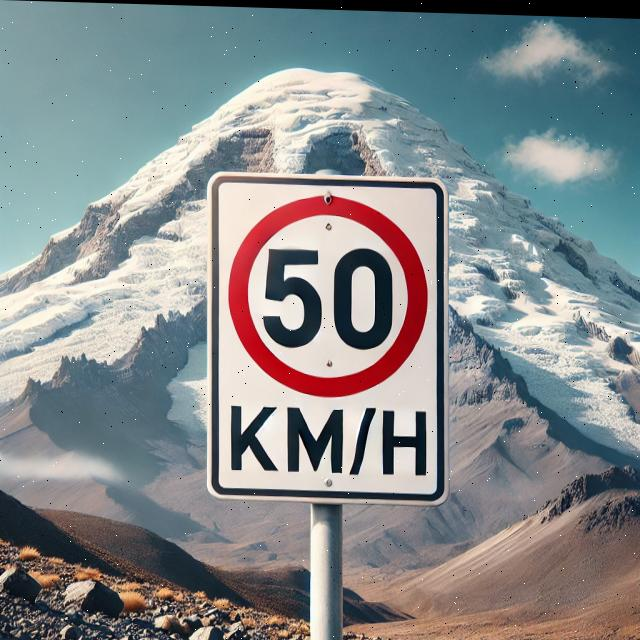Speed limit 50: (228, 185, 429, 403)
